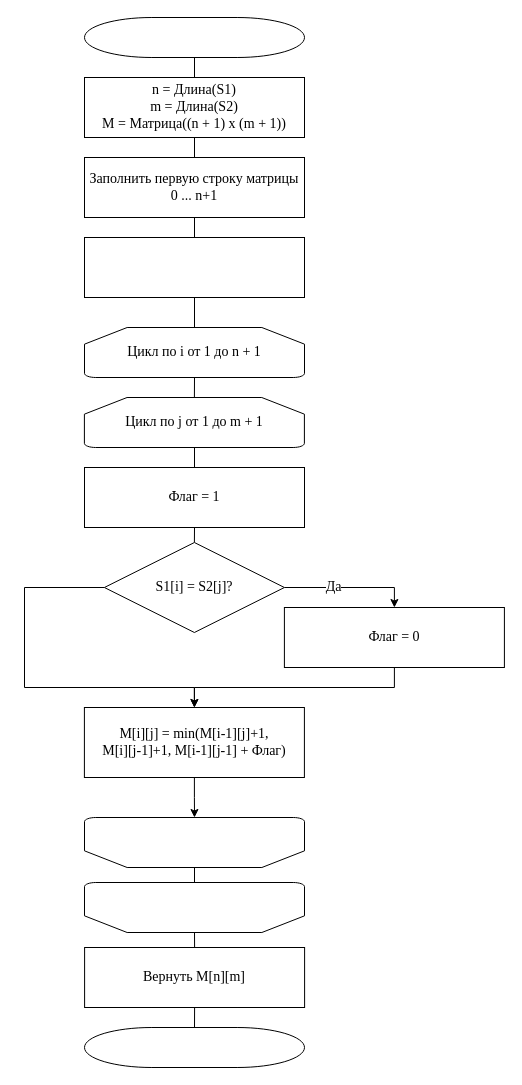
Some shapes in this 522 by 1085 pixel diagram are drawn without their labels. Each missing label, with the box of its shape:
Заполнить первый стролбец матрицы 0 ... m+1: (84, 236, 304, 298)
Конец: (84, 1026, 304, 1068)
Начало: (84, 16, 304, 58)
Увеличить i на 1 Цикл по i: (84, 882, 304, 932)
Увеличить j на 1 Цикл по j: (84, 816, 304, 868)
